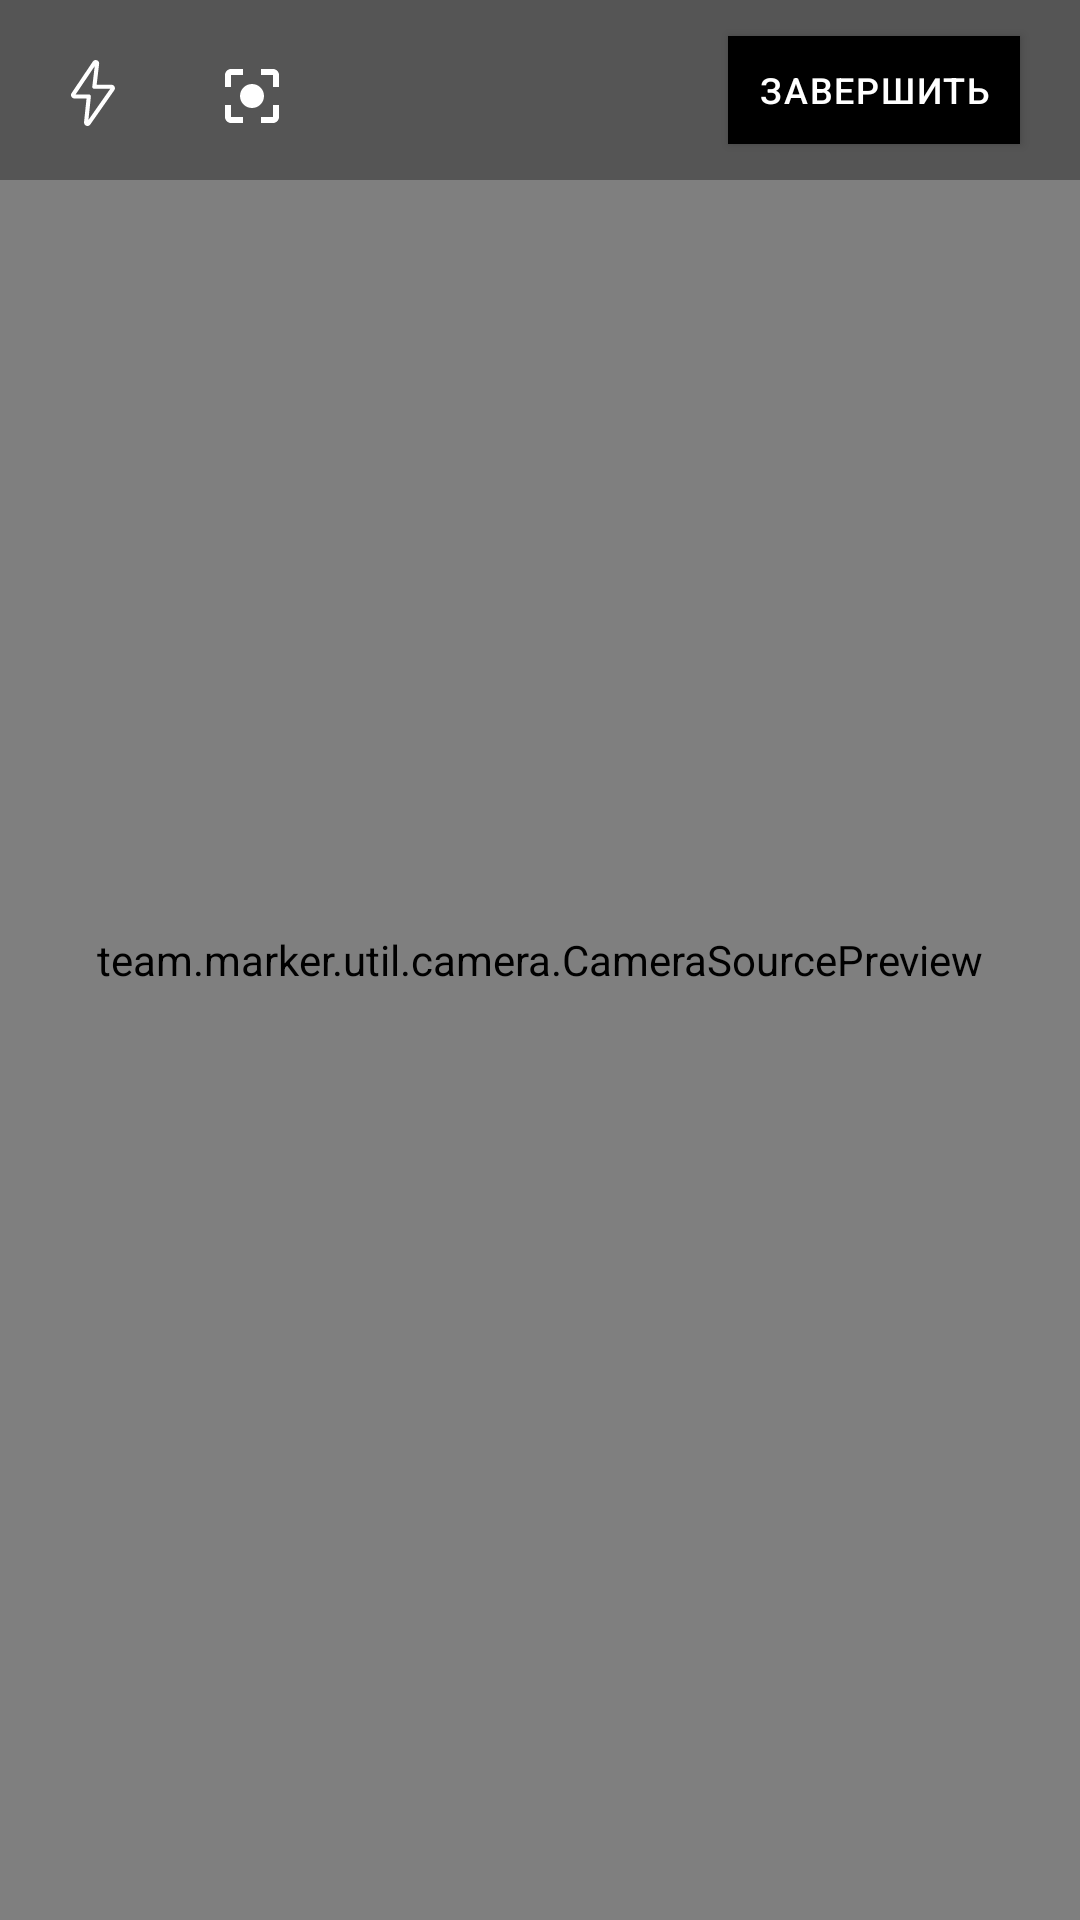

Screen size 1080x1920. Icon name, then its center in pixels as point (x, y):
auto focus: point (252, 96)
flash: point (93, 93)
